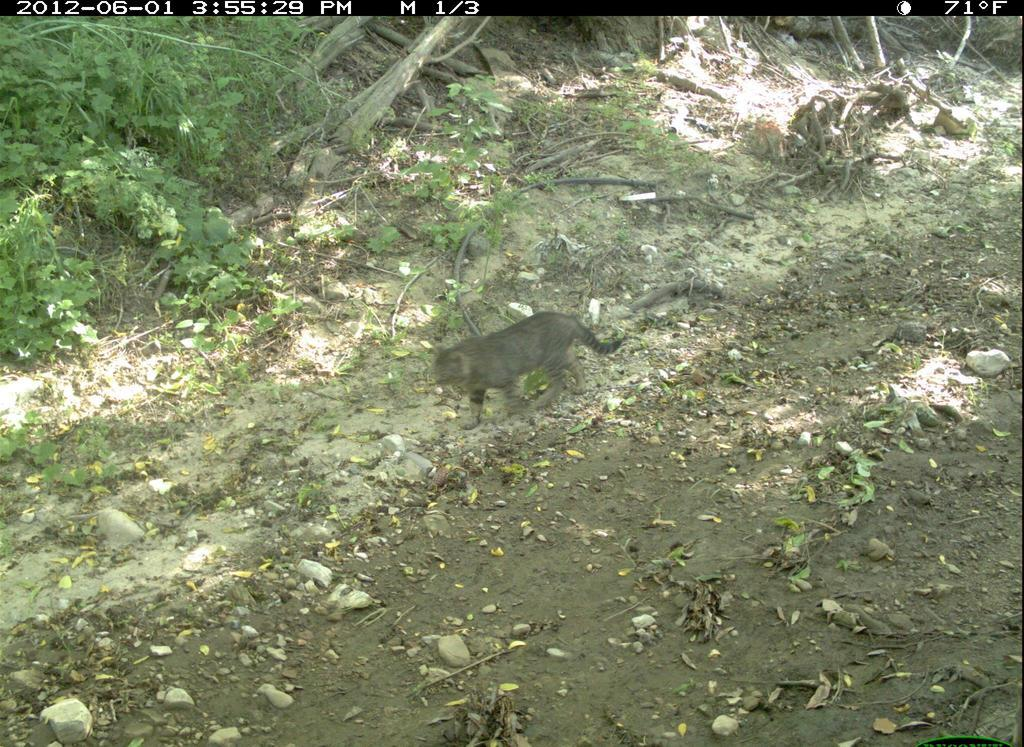cat: (423, 301, 641, 434)
